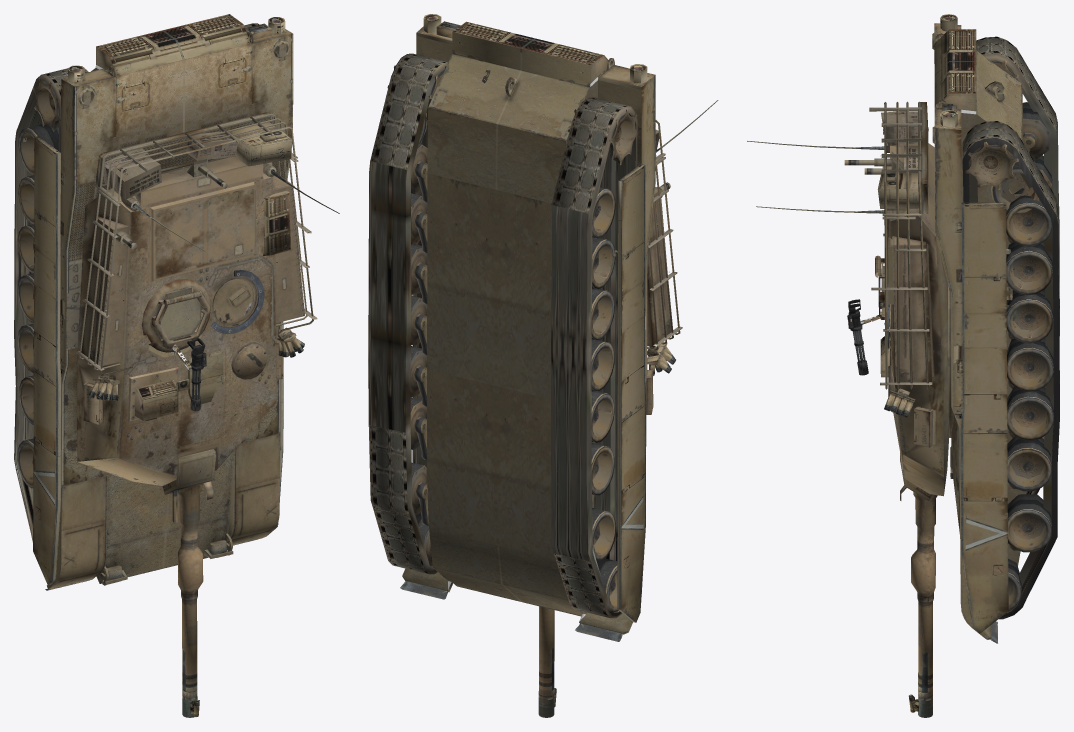
File: M1A1 LOD0 QUAD.fbx
3 views of the same model, side by side, from view 1: azimuth 30°, elevation 25°; view 2: azimuth 150°, elevation 25°; view 3: azimuth 270°, elevation 25° (orthographic). The views are drawn at different scales.
Parts seen in each view (by area): view 1: Minigun, Object018, Object021, Main_Barre, Main_Wheel, Track; view 2: extra1, Track, Object018, Main_Wheel, Object021, Minigun, details7, Main_Barre; view 3: Object018, Minigun, Main_Wheel, Track, Main_Barre.
Boxes of the visible parts, x1,y1,x2,y2 form: Minigun: [76, 112, 339, 485]; Object018: [33, 14, 293, 590]; Object021: [33, 137, 61, 584]; Main_Barre: [162, 449, 216, 717]; Main_Wheel: [17, 124, 58, 488]; Track: [14, 23, 259, 542]; extra1: [426, 107, 565, 559]; Track: [368, 53, 637, 618]; Object018: [387, 14, 655, 641]; Main_Wheel: [410, 143, 618, 611]; Object021: [621, 165, 646, 622]; Minigun: [645, 100, 718, 414]; details7: [414, 161, 428, 525]; Main_Barre: [538, 606, 556, 717]; Object018: [932, 14, 1039, 643]; Minigun: [747, 101, 948, 496]; Main_Wheel: [1006, 102, 1053, 610]; Track: [962, 36, 1059, 619]; Main_Barre: [900, 453, 937, 717].
Bounding box in the file's own units: 167 × 468 × 203.
